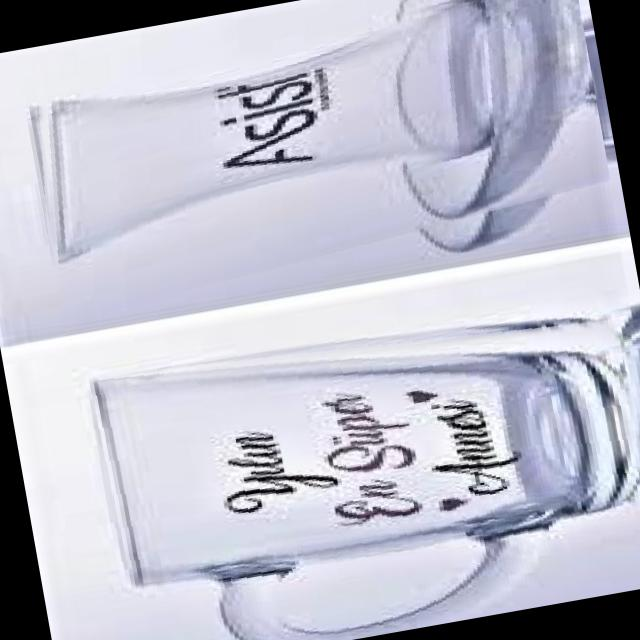Glass: (84, 281, 640, 640), (7, 0, 618, 324)
